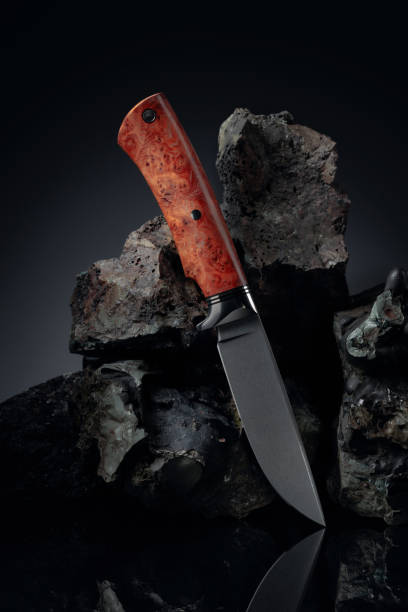knife: (111, 89, 328, 530)
